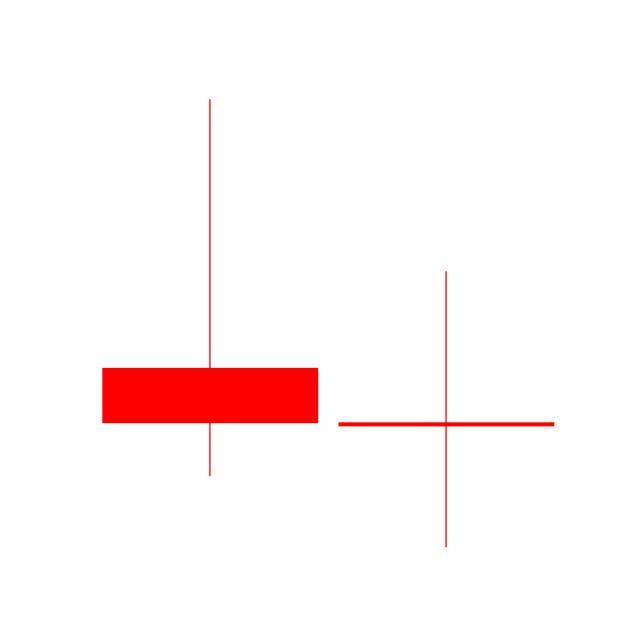Spinning Top: (328, 269, 566, 551)
